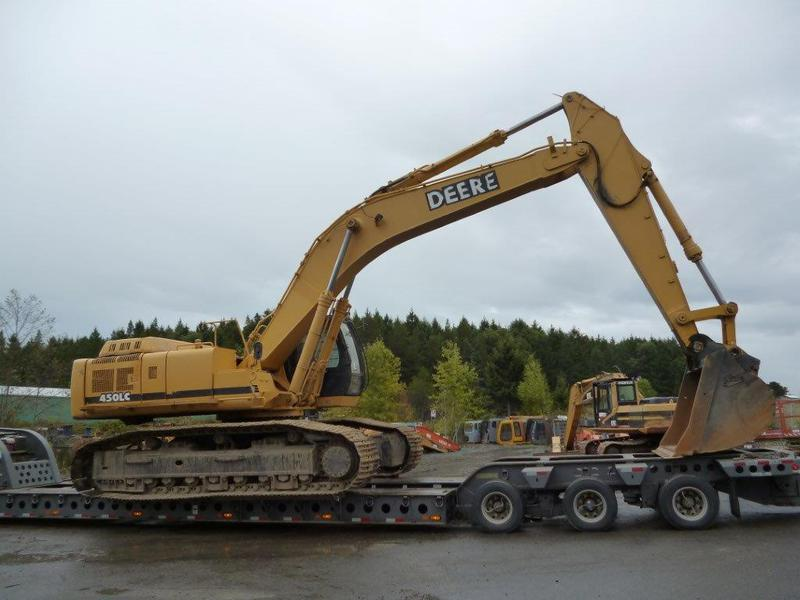shovel: (62, 86, 778, 503)
